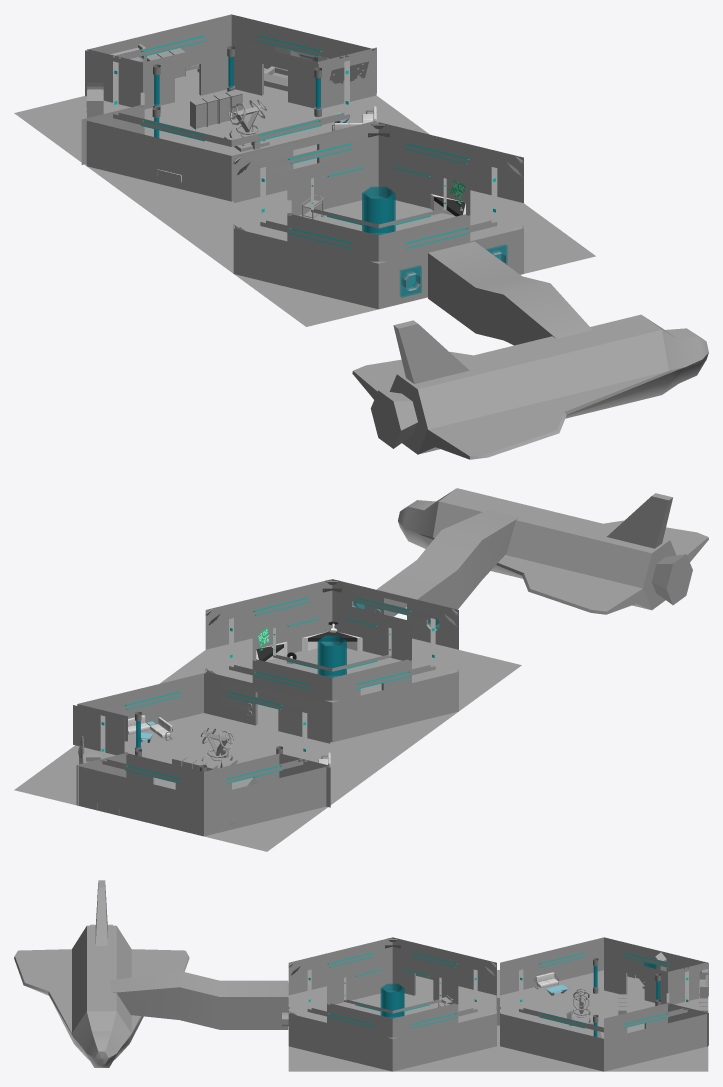
File: jochem is er niet doorless.fbx
3 renders of one model, top to bottom at view 1: azimuth 30°, elevation 25°; view 2: azimuth 150°, elevation 25°; view 3: azimuth 270°, elevation 25°, orthographic. The views are drawn at different scales.
Parts seen in each view (by area): view 1: Shuttle:pCylinder7, polySurface161, polySurface170, wall_inner_rooms_room1, wall_room1, wall_inner_room_room2, pCube3, lamp_base, lamp_base1, lamp_base2, glass_tube, lamps1 (+2 smaller); view 2: polySurface161, Shuttle:pCylinder7, wall_room1, polySurface170, wall_inner_room_room2, pCube3, wall_inner_rooms_room1, lamp_base, lamp_base1, lamp_base2, glass_tube, Desk (+4 smaller); view 3: polySurface161, Shuttle:pCylinder7, polySurface170, wall_room1, pCube3, wall_inner_room_room2, wall_inner_rooms_room1, lamp_base, lamp_base1, lamp_base2, glass_tube, lamps (+2 smaller).
Boxes of the visible parts, x1,y1,x2,y2 form: Shuttle:pCylinder7: (352,314,708,459); polySurface161: (14,68,595,326); polySurface170: (233,122,523,309); wall_inner_rooms_room1: (81,41,376,164); wall_room1: (86,14,376,201); wall_inner_room_room2: (287,148,470,261); pCube3: (428,241,592,345); lamp_base: (260,135,497,254); lamp_base1: (113,27,349,146); lamp_base2: (311,160,446,228); glass_tube: (362,186,395,235); lamps1: (114,35,348,141); polySurface161: (14,638,521,851); Shuttle:pCylinder7: (398,488,708,614); wall_room1: (77,673,330,836); polySurface170: (205,579,458,742); wall_inner_room_room2: (252,602,411,702); pCube3: (376,510,518,624); wall_inner_rooms_room1: (73,704,330,807); lamp_base: (229,590,435,694); lamp_base1: (100,684,307,788); lamp_base2: (273,612,391,671); glass_tube: (317,635,346,677); Desk: (302,631,362,650); polySurface161: (288,970,708,1071); Shuttle:pCylinder7: (14,880,189,1067); polySurface170: (282,937,496,1071); wall_room1: (497,937,708,1071); pCube3: (111,971,288,1029); wall_inner_room_room2: (327,956,458,1037); wall_inner_rooms_room1: (604,957,708,1046); lamp_base: (307,946,477,1032); lamp_base1: (519,946,688,1032); lamp_base2: (344,964,441,1013); glass_tube: (380,983,404,1018); lamps: (308,952,476,1028).
Size of the model in its own units: 23.66 by 8.1 by 57.81.
